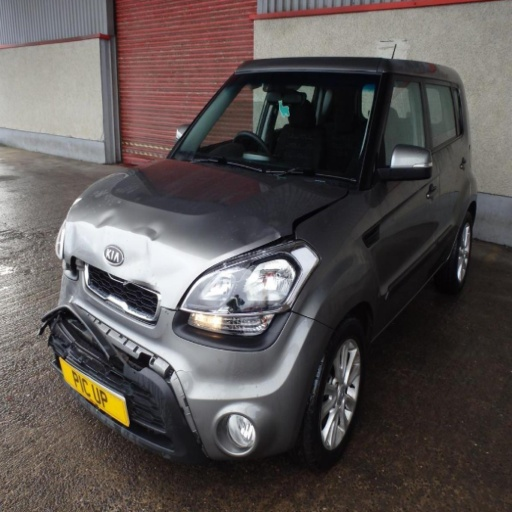dent: (228, 215, 278, 246), (150, 264, 190, 286), (131, 219, 164, 243), (120, 249, 146, 268), (93, 209, 116, 230), (129, 279, 159, 292), (68, 224, 77, 252), (146, 241, 152, 273)
